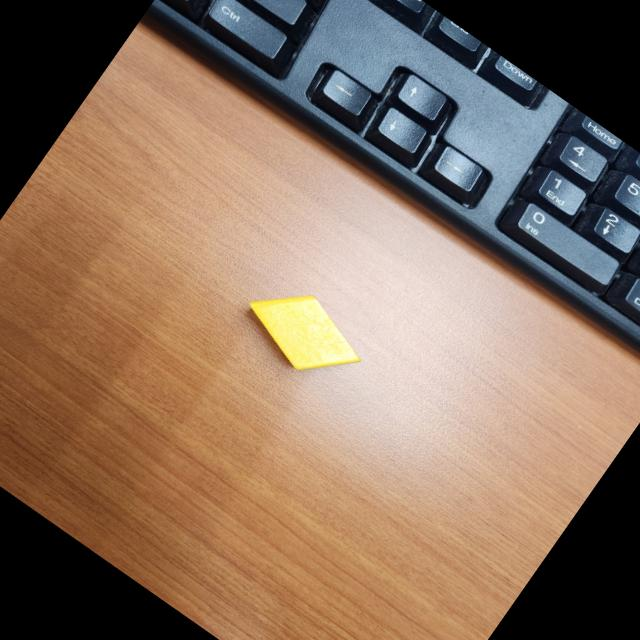yellow: (231, 266, 377, 398)
